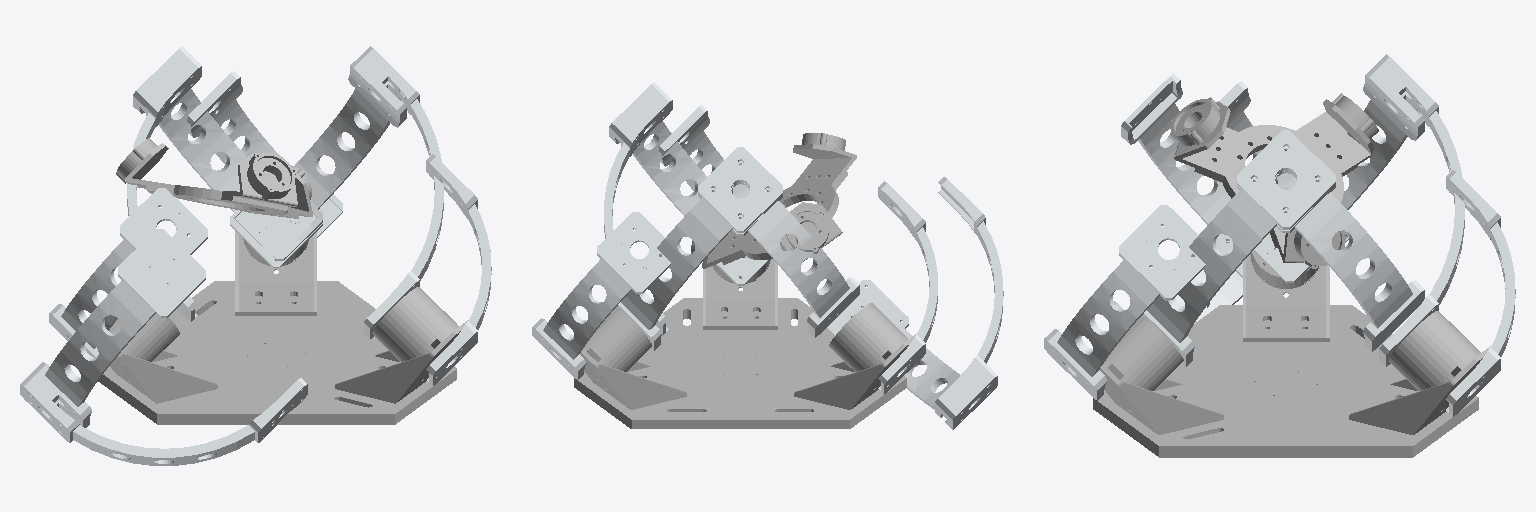
URDF robot description (Spherical_Parallel):
<?xml version="1.0" encoding="utf-8"?>
<!-- This URDF was automatically created by SolidWorks to URDF Exporter! Originally created by Stephen Brawner (brawner@gmail.com) 
     Commit Version: 1.6.0-4-g7f85cfe  Build Version: 1.6.7995.38578
     For more information, please see http://wiki.ros.org/sw_urdf_exporter -->
<robot
  name="Spherical_Parallel">
  <link
    name="S1_base_link">
    <inertial>
      <origin
        xyz="-5.68297642564756E-06 -0.0872774523069918 -9.84320252937853E-06"
        rpy="0 0 0" />
      <mass
        value="0.383954508133489" />
      <inertia
        ixx="0.000279103390586857"
        ixy="1.65202029195489E-17"
        ixz="3.02891552499975E-06"
        iyy="0.000538960992417047"
        iyz="-1.43018744719677E-16"
        izz="0.000282600880973714" />
    </inertial>
    <visual>
      <origin
        xyz="0 0 0"
        rpy="0 0 0" />
      <geometry>
        <mesh
          filename="package://Spherical_Parallel/meshes/S1_base_link.STL" />
      </geometry>
      <material
        name="">
        <color
          rgba="0.752941176470588 0.752941176470588 0.752941176470588 1" />
      </material>
    </visual>
    <collision>
      <origin
        xyz="0 0 0"
        rpy="0 0 0" />
      <geometry>
        <mesh
          filename="package://Spherical_Parallel/meshes/S1_base_link.STL" />
      </geometry>
    </collision>
  </link>
  <link
    name="S1_base_proximal_Link1">
    <inertial>
      <origin
        xyz="0.0394266555578629 0.0156150450745581 0.0481638125806377"
        rpy="0 0 0" />
      <mass
        value="0.0723708688376402" />
      <inertia
        ixx="5.34836998471511E-05"
        ixy="1.56730810847073E-05"
        ixz="-2.64879755980296E-05"
        iyy="7.75210527903698E-05"
        iyz="-1.04694439328094E-08"
        izz="6.80404042701312E-05" />
    </inertial>
    <visual>
      <origin
        xyz="0 0 0"
        rpy="0 0 0" />
      <geometry>
        <mesh
          filename="package://Spherical_Parallel/meshes/S1_base_proximal_Link1.STL" />
      </geometry>
      <material
        name="">
        <color
          rgba="0.898039215686275 0.917647058823529 0.929411764705882 1" />
      </material>
    </visual>
    <collision>
      <origin
        xyz="0 0 0"
        rpy="0 0 0" />
      <geometry>
        <mesh
          filename="package://Spherical_Parallel/meshes/S1_base_proximal_Link1.STL" />
      </geometry>
    </collision>
  </link>
  <joint
    name="S1_base_proximal_Joint1"
    type="revolute">
    <origin
      xyz="-0.055318 0 -0.059281"
      rpy="-0.7854 -0.61548 -2.0944" />
    <parent
      link="S1_base_link" />
    <child
      link="S1_base_proximal_Link1" />
    <axis
      xyz="0 0 -1" />
    <limit
      lower="0"
      upper="0"
      effort="0"
      velocity="0" />
  </joint>
  <link
    name="S1_intermediate_distal_Link1">
    <inertial>
      <origin
        xyz="0.0276162169494415 -2.2103393455819E-09 0.016604279242538"
        rpy="0 0 0" />
      <mass
        value="0.0249434660620518" />
      <inertia
        ixx="1.23287454032943E-05"
        ixy="-3.16358154410556E-13"
        ixz="-1.02513914563365E-05"
        iyy="2.31995059108402E-05"
        iyz="-1.03787602624064E-12"
        izz="1.41903412871279E-05" />
    </inertial>
    <visual>
      <origin
        xyz="0 0 0"
        rpy="0 0 0" />
      <geometry>
        <mesh
          filename="package://Spherical_Parallel/meshes/S1_intermediate_distal_Link1.STL" />
      </geometry>
      <material
        name="">
        <color
          rgba="0.898039215686275 0.917647058823529 0.929411764705882 1" />
      </material>
    </visual>
    <collision>
      <origin
        xyz="0 0 0"
        rpy="0 0 0" />
      <geometry>
        <mesh
          filename="package://Spherical_Parallel/meshes/S1_intermediate_distal_Link1.STL" />
      </geometry>
    </collision>
  </link>
  <joint
    name="S1_intermediate_distal_Joint1"
    type="revolute">
    <origin
      xyz="0 0.0515 0.06775"
      rpy="1.5708 0 0" />
    <parent
      link="S1_base_proximal_Link1" />
    <child
      link="S1_intermediate_distal_Link1" />
    <axis
      xyz="0 0 1" />
    <limit
      lower="0"
      upper="0"
      effort="0"
      velocity="0" />
  </joint>
  <link
    name="S1_distal_platform_Link1">
    <inertial>
      <origin
        xyz="-0.0130793019915812 0.0130793019915812 -0.0424206980084191"
        rpy="0 0 0" />
      <mass
        value="0.0449345648772936" />
      <inertia
        ixx="8.16631916433442E-06"
        ixy="-1.65084933290386E-06"
        ixz="-1.65084933290384E-06"
        iyy="8.16631916433444E-06"
        iyz="1.65084933290385E-06"
        izz="8.16631916433439E-06" />
    </inertial>
    <visual>
      <origin
        xyz="0 0 0"
        rpy="0 0 0" />
      <geometry>
        <mesh
          filename="package://Spherical_Parallel/meshes/S1_distal_platform_Link1.STL" />
      </geometry>
      <material
        name="">
        <color
          rgba="0.752941176470588 0.752941176470588 0.752941176470588 1" />
      </material>
    </visual>
    <collision>
      <origin
        xyz="0 0 0"
        rpy="0 0 0" />
      <geometry>
        <mesh
          filename="package://Spherical_Parallel/meshes/S1_distal_platform_Link1.STL" />
      </geometry>
    </collision>
  </link>
  <joint
    name="S1_distal_platform_Joint1"
    type="revolute">
    <origin
      xyz="0.0555 0 0.0515"
      rpy="3.1416 1.5708 -2.5043" />
    <parent
      link="S1_intermediate_distal_Link1" />
    <child
      link="S1_distal_platform_Link1" />
    <axis
      xyz="0 0 -1" />
    <limit
      lower="0"
      upper="0"
      effort="0"
      velocity="0" />
  </joint>
  <link
    name="S1_base_proximal_Link2">
    <inertial>
      <origin
        xyz="0.0394266611515091 0.0156150474102847 0.0481638009867669"
        rpy="0 0 0" />
      <mass
        value="0.072370813478773" />
      <inertia
        ixx="5.34836949402529E-05"
        ixy="1.56730710204049E-05"
        ixz="-2.64879777611082E-05"
        iyy="7.75210508818692E-05"
        iyz="-1.04596703085696E-08"
        izz="6.8040392668426E-05" />
    </inertial>
    <visual>
      <origin
        xyz="0 0 0"
        rpy="0 0 0" />
      <geometry>
        <mesh
          filename="package://Spherical_Parallel/meshes/S1_base_proximal_Link2.STL" />
      </geometry>
      <material
        name="">
        <color
          rgba="0.898039215686275 0.917647058823529 0.929411764705882 1" />
      </material>
    </visual>
    <collision>
      <origin
        xyz="0 0 0"
        rpy="0 0 0" />
      <geometry>
        <mesh
          filename="package://Spherical_Parallel/meshes/S1_base_proximal_Link2.STL" />
      </geometry>
    </collision>
  </link>
  <joint
    name="S1_base_proximal_Joint2"
    type="revolute">
    <origin
      xyz="0.027659 -0.047906 -0.059281"
      rpy="-0.7854 -0.61548 0" />
    <parent
      link="S1_base_link" />
    <child
      link="S1_base_proximal_Link2" />
    <axis
      xyz="0 0 -1" />
    <limit
      lower="0"
      upper="0"
      effort="0"
      velocity="0" />
  </joint>
  <link
    name="S1_intermediate_distal_Link2">
    <inertial>
      <origin
        xyz="0.0276162724495207 -2.56363466219489E-09 0.0166042770917791"
        rpy="0 0 0" />
      <mass
        value="0.0249434008867252" />
      <inertia
        ixx="1.23287424080632E-05"
        ixy="1.00356953149639E-12"
        ixz="-1.02513872579272E-05"
        iyy="2.31995048527672E-05"
        iyz="-1.19413555056685E-12"
        izz="1.4190346123321E-05" />
    </inertial>
    <visual>
      <origin
        xyz="0 0 0"
        rpy="0 0 0" />
      <geometry>
        <mesh
          filename="package://Spherical_Parallel/meshes/S1_intermediate_distal_Link2.STL" />
      </geometry>
      <material
        name="">
        <color
          rgba="0.898039215686275 0.917647058823529 0.929411764705882 1" />
      </material>
    </visual>
    <collision>
      <origin
        xyz="0 0 0"
        rpy="0 0 0" />
      <geometry>
        <mesh
          filename="package://Spherical_Parallel/meshes/S1_intermediate_distal_Link2.STL" />
      </geometry>
    </collision>
  </link>
  <joint
    name="S1_intermediate_distal_Joint2"
    type="revolute">
    <origin
      xyz="0 0.0515 0.06775"
      rpy="1.5708 0 0" />
    <parent
      link="S1_base_proximal_Link2" />
    <child
      link="S1_intermediate_distal_Link2" />
    <axis
      xyz="0 0 1" />
    <limit
      lower="0"
      upper="0"
      effort="0"
      velocity="0" />
  </joint>
  <link
    name="S1_base_proximal_Link3">
    <inertial>
      <origin
        xyz="0.0394266547391432 0.0156150168228698 0.0481637981881163"
        rpy="0 0 0" />
      <mass
        value="0.0723709631846189" />
      <inertia
        ixx="5.34837990510187E-05"
        ixy="1.56730722644498E-05"
        ixz="-2.64880476589497E-05"
        iyy="7.75212034209213E-05"
        iyz="-1.04670720804852E-08"
        izz="6.80404534420661E-05" />
    </inertial>
    <visual>
      <origin
        xyz="0 0 0"
        rpy="0 0 0" />
      <geometry>
        <mesh
          filename="package://Spherical_Parallel/meshes/S1_base_proximal_Link3.STL" />
      </geometry>
      <material
        name="">
        <color
          rgba="0.898039215686275 0.917647058823529 0.929411764705882 1" />
      </material>
    </visual>
    <collision>
      <origin
        xyz="0 0 0"
        rpy="0 0 0" />
      <geometry>
        <mesh
          filename="package://Spherical_Parallel/meshes/S1_base_proximal_Link3.STL" />
      </geometry>
    </collision>
  </link>
  <joint
    name="S1_base_proximal_Joint3"
    type="revolute">
    <origin
      xyz="0.027659 0.047906 -0.059281"
      rpy="-0.7854 -0.61548 2.0944" />
    <parent
      link="S1_base_link" />
    <child
      link="S1_base_proximal_Link3" />
    <axis
      xyz="0 0 -1" />
    <limit
      lower="0"
      upper="0"
      effort="0"
      velocity="0" />
  </joint>
  <link
    name="S1_intermediate_distal_Link3">
    <inertial>
      <origin
        xyz="0.0276162699864968 -5.75903415234169E-09 0.0166042723305424"
        rpy="0 0 0" />
      <mass
        value="0.0249434138951247" />
      <inertia
        ixx="1.2328741879394E-05"
        ixy="-1.7445138177827E-12"
        ixz="-1.02513859626617E-05"
        iyy="2.31995018577349E-05"
        iyz="-1.15965213932344E-12"
        izz="1.41903422898734E-05" />
    </inertial>
    <visual>
      <origin
        xyz="0 0 0"
        rpy="0 0 0" />
      <geometry>
        <mesh
          filename="package://Spherical_Parallel/meshes/S1_intermediate_distal_Link3.STL" />
      </geometry>
      <material
        name="">
        <color
          rgba="0.898039215686275 0.917647058823529 0.929411764705882 1" />
      </material>
    </visual>
    <collision>
      <origin
        xyz="0 0 0"
        rpy="0 0 0" />
      <geometry>
        <mesh
          filename="package://Spherical_Parallel/meshes/S1_intermediate_distal_Link3.STL" />
      </geometry>
    </collision>
  </link>
  <joint
    name="S1_intermediate_distal_Joint3"
    type="revolute">
    <origin
      xyz="0 0.0515 0.06775"
      rpy="1.5708 0 0" />
    <parent
      link="S1_base_proximal_Link3" />
    <child
      link="S1_intermediate_distal_Link3" />
    <axis
      xyz="0 0 1" />
    <limit
      lower="0"
      upper="0"
      effort="0"
      velocity="0" />
  </joint>
</robot>

--- Facts derived from the render (not from the file) ---
The picture shows the robot from 3 angles, left to right: view 1: azimuth 30°, elevation 25°; view 2: azimuth 150°, elevation 25°; view 3: azimuth 270°, elevation 25°; orthographic projection.
Model Spherical_Parallel with 8 links and 7 joints (7 revolute), rooted at S1_base_link, posed every joint at zero.
Links seen in each view (by area): view 1: S1_base_link, S1_base_proximal_Link1, S1_base_proximal_Link2, S1_base_proximal_Link3, S1_distal_platform_Link1, S1_intermediate_distal_Link3, S1_intermediate_distal_Link1, S1_intermediate_distal_Link2; view 2: S1_base_link, S1_base_proximal_Link3, S1_intermediate_distal_Link2, S1_base_proximal_Link1, S1_base_proximal_Link2, S1_distal_platform_Link1, S1_intermediate_distal_Link3, S1_intermediate_distal_Link1; view 3: S1_base_link, S1_base_proximal_Link2, S1_distal_platform_Link1, S1_intermediate_distal_Link1, S1_base_proximal_Link3, S1_base_proximal_Link1, S1_intermediate_distal_Link2, S1_intermediate_distal_Link3.
Link boxes in pixels (x1,y1,x2,y2): S1_base_link: (98, 221, 468, 424); S1_base_proximal_Link1: (20, 229, 307, 465); S1_base_proximal_Link2: (234, 46, 443, 338); S1_base_proximal_Link3: (127, 46, 322, 321); S1_distal_platform_Link1: (116, 138, 312, 218); S1_intermediate_distal_Link3: (49, 188, 207, 357); S1_intermediate_distal_Link1: (426, 154, 491, 385); S1_intermediate_distal_Link2: (187, 71, 342, 237); S1_base_link: (574, 256, 917, 428); S1_base_proximal_Link3: (617, 147, 859, 350); S1_intermediate_distal_Link2: (532, 212, 670, 379); S1_base_proximal_Link1: (827, 177, 1003, 429); S1_base_proximal_Link2: (604, 82, 770, 334); S1_distal_platform_Link1: (691, 133, 856, 268); S1_intermediate_distal_Link3: (878, 181, 937, 393); S1_intermediate_distal_Link1: (659, 105, 749, 198); S1_base_link: (1093, 249, 1490, 457); S1_base_proximal_Link2: (1143, 130, 1424, 366); S1_distal_platform_Link1: (1170, 93, 1378, 268); S1_intermediate_distal_Link1: (1044, 205, 1205, 400); S1_base_proximal_Link3: (1254, 54, 1464, 366); S1_base_proximal_Link1: (1114, 73, 1242, 323); S1_intermediate_distal_Link2: (1446, 170, 1515, 416); S1_intermediate_distal_Link3: (1219, 81, 1348, 241).
Bounding box of the posed robot: 0.2039 × 0.1888 × 0.1523 m (x, y, z).
8 mesh visuals loaded from 8 distinct referenced files (8 binary STL).
